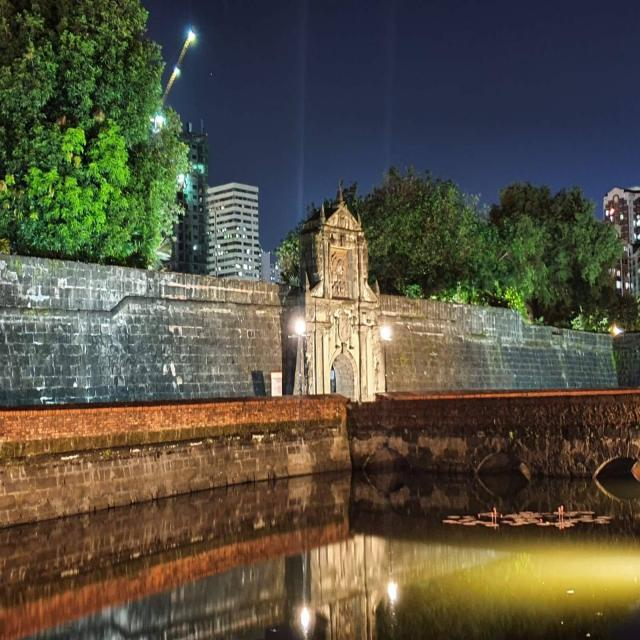Fort Santiago: (0, 185, 639, 407)
